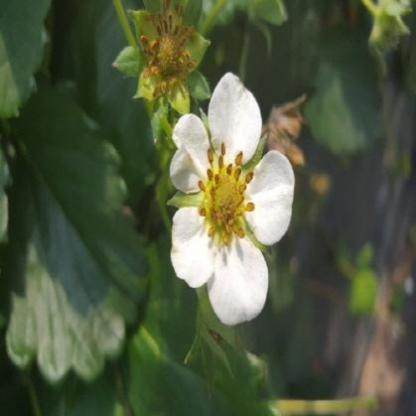Strawberry_Blossom_Blight: (192, 140, 258, 252), (136, 0, 200, 102)
